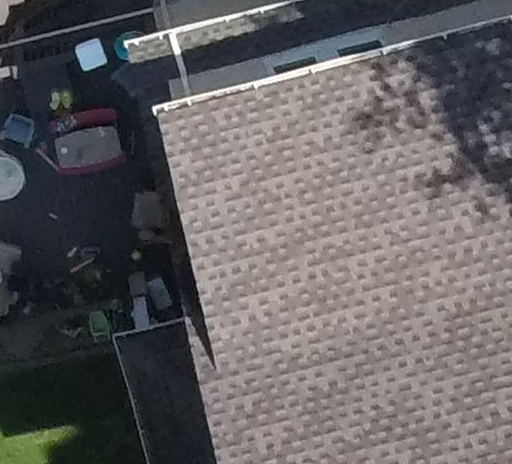container: (67, 38, 106, 73), (6, 109, 36, 149)
toy: (81, 304, 116, 345)
